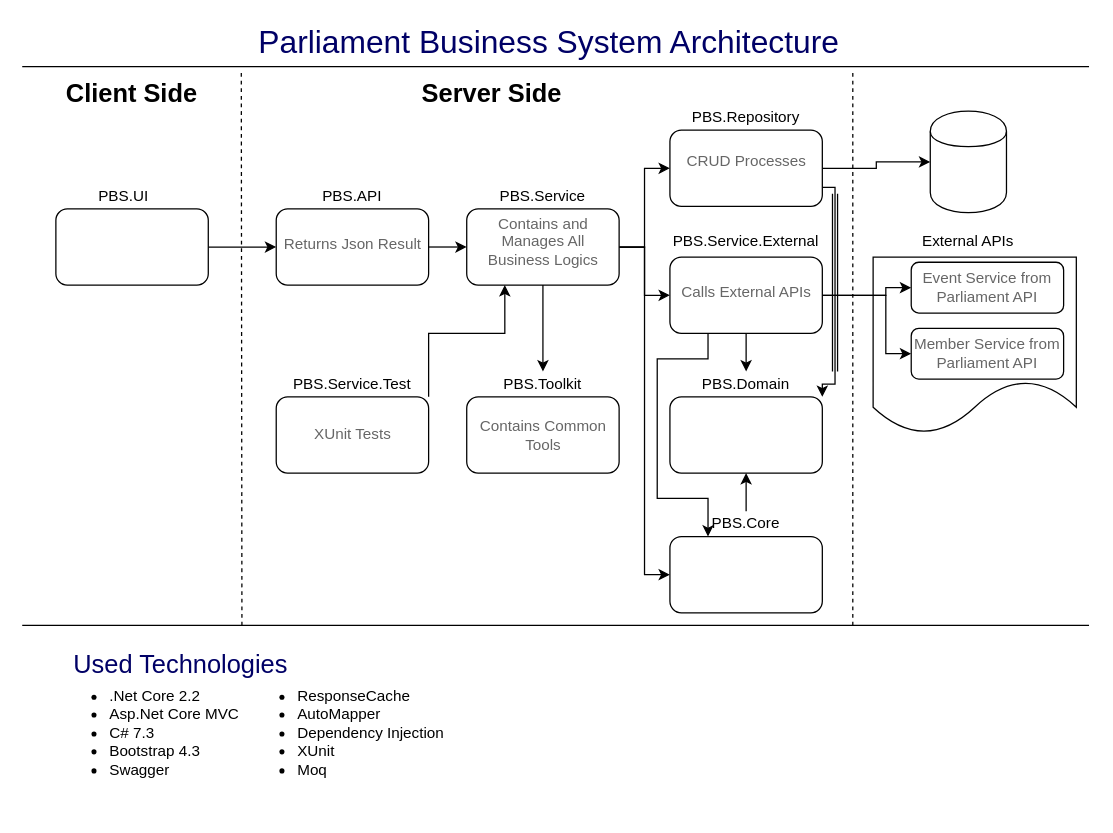
The diagram is 1113 pixels wide and 833 high, and some of its shapes have lost their labels. The shapes that lost their labels are listed below. From the top down, each one's box as (x1, y1, x2, y2) in pixels, then its label:
(929, 110, 1006, 213): Database
(55, 208, 208, 285): Web Application
(669, 396, 822, 473): Contains Entities and Models for Data
(669, 535, 822, 613): Contains Interfaces for Dependency Injection
